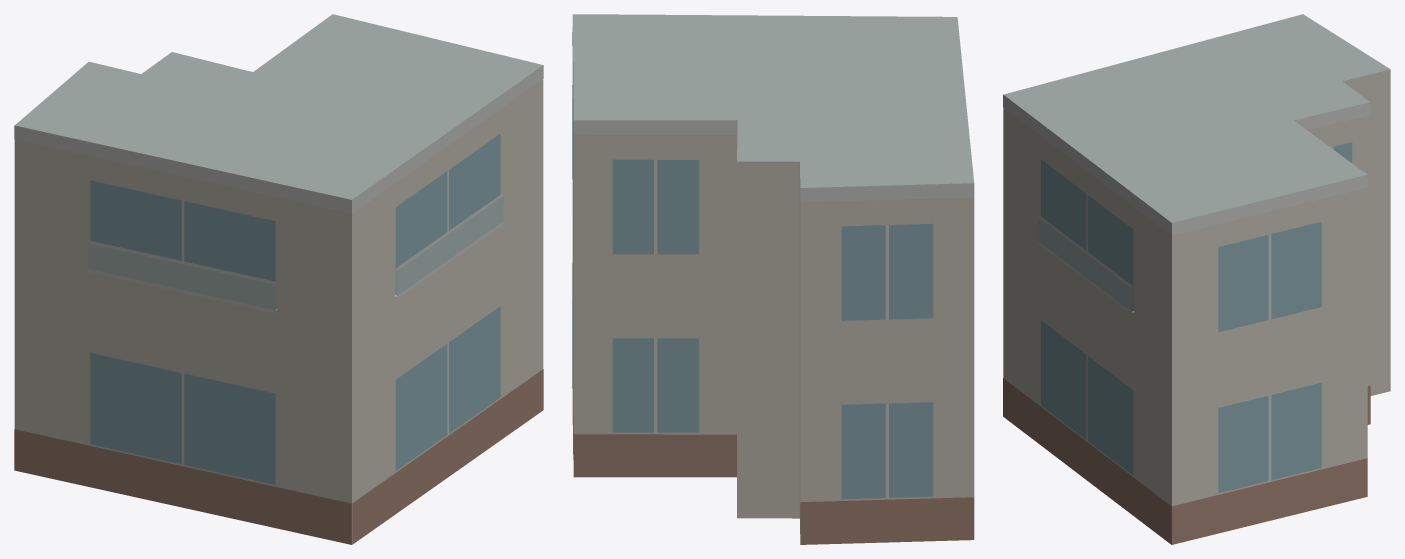
Rendered from survey-upis-32950327.glb.
The picture shows the model from 3 angles, left to right: view 1: azimuth 30°, elevation 25°; view 2: azimuth 150°, elevation 25°; view 3: azimuth 270°, elevation 25°; orthographic projection. The views are drawn at different scales.
Visible parts, largest first — view 1: survey-upis-32950327.tmp; view 2: survey-upis-32950327.tmp; view 3: survey-upis-32950327.tmp.
Part boxes in pixels (x1=…): survey-upis-32950327.tmp: x1=14, y1=14, x2=543, y2=544; survey-upis-32950327.tmp: x1=572, y1=14, x2=974, y2=544; survey-upis-32950327.tmp: x1=1003, y1=14, x2=1390, y2=544.
Bounding box in the file's own units: 8.5 × 6.1 × 6.66.
